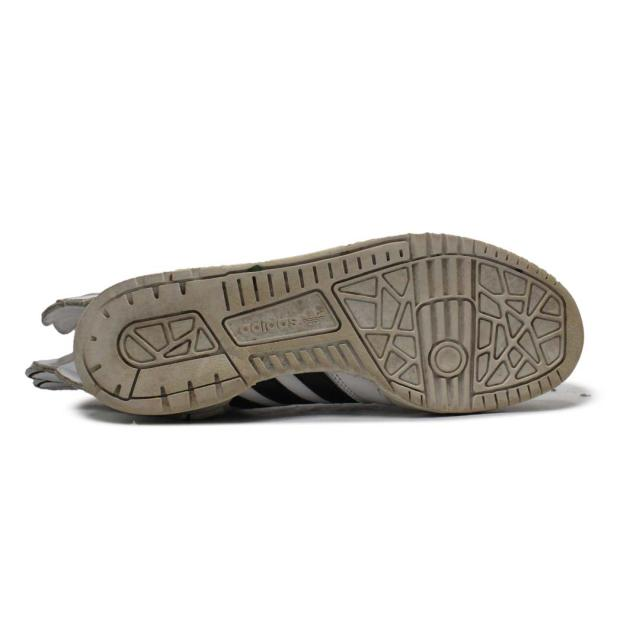outersole: (80, 232, 582, 412)
